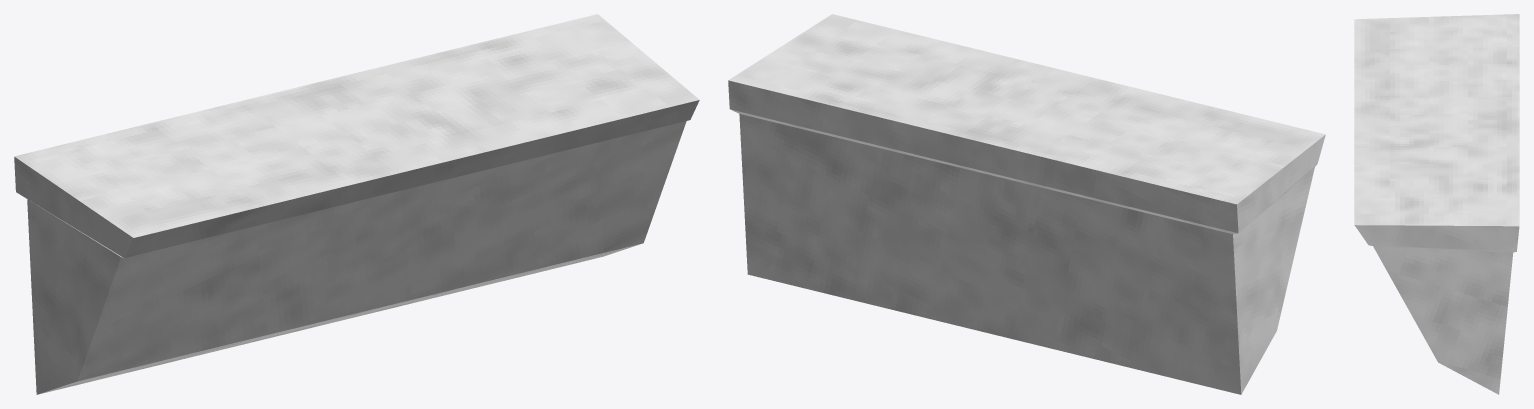
Rendered from large_table.glb.
The picture shows the model from 3 angles, left to right: view 1: azimuth 30°, elevation 25°; view 2: azimuth 150°, elevation 25°; view 3: azimuth 270°, elevation 25°; orthographic projection. The views are drawn at different scales.
Visible parts, largest first — view 1: Large Table; view 2: Large Table; view 3: Large Table.
Boxes of the visible parts, bbox=[...] form: Large Table: bbox=[14, 14, 699, 394]; Large Table: bbox=[728, 14, 1325, 394]; Large Table: bbox=[1354, 14, 1519, 394].
Bounding box in the file's own units: 3.5 × 1.32 × 1.15.
1 material, 1 textured.
